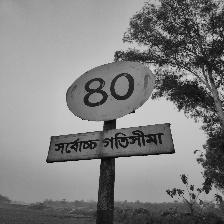Speed-limit: (47, 59, 172, 162)
